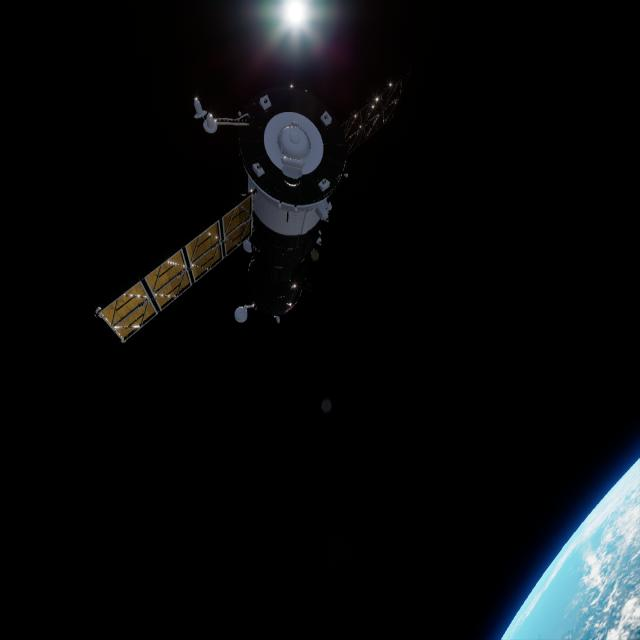Satellites revolving around earth: (93, 70, 405, 346)
